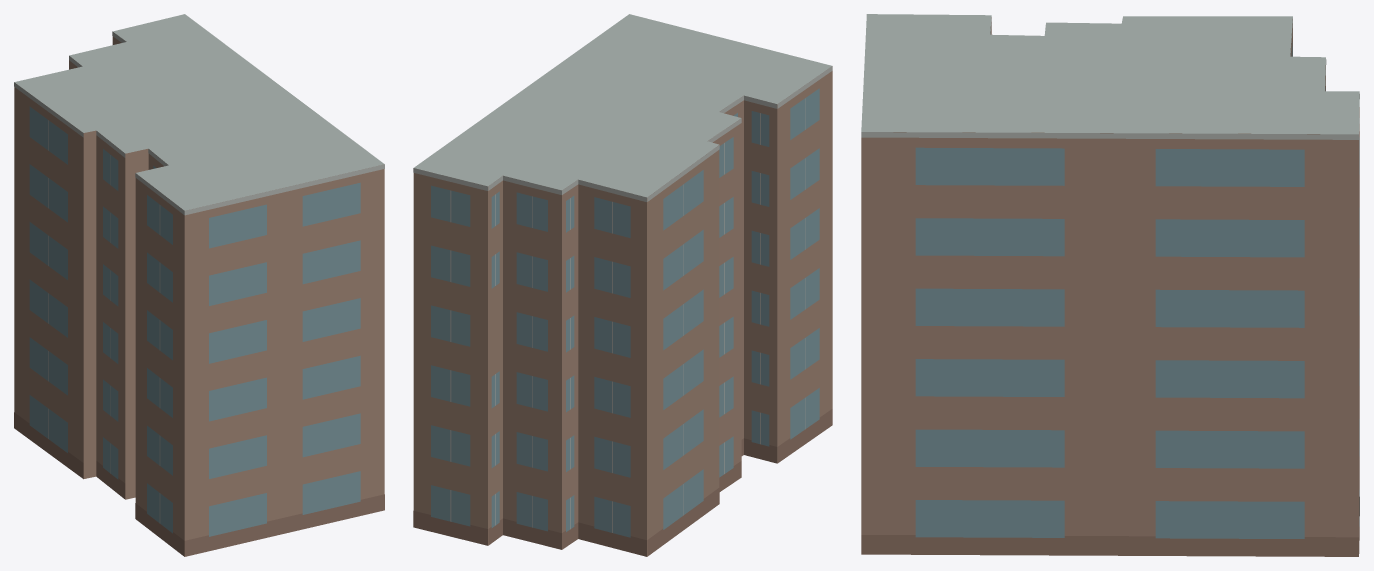
File: survey-upis-32572808.glb
3 renders of one model, left to right at view 1: azimuth 30°, elevation 25°; view 2: azimuth 150°, elevation 25°; view 3: azimuth 270°, elevation 25°, orthographic. The views are drawn at different scales.
Parts seen in each view (by area): view 1: survey-upis-32572808.tmp; view 2: survey-upis-32572808.tmp; view 3: survey-upis-32572808.tmp.
Boxes of the visible parts, bbox=[...] form: survey-upis-32572808.tmp: bbox=[14, 14, 384, 556]; survey-upis-32572808.tmp: bbox=[413, 14, 832, 556]; survey-upis-32572808.tmp: bbox=[861, 14, 1359, 556].
Bounding box in the file's own units: 11.18 × 18.3 × 19.57.
